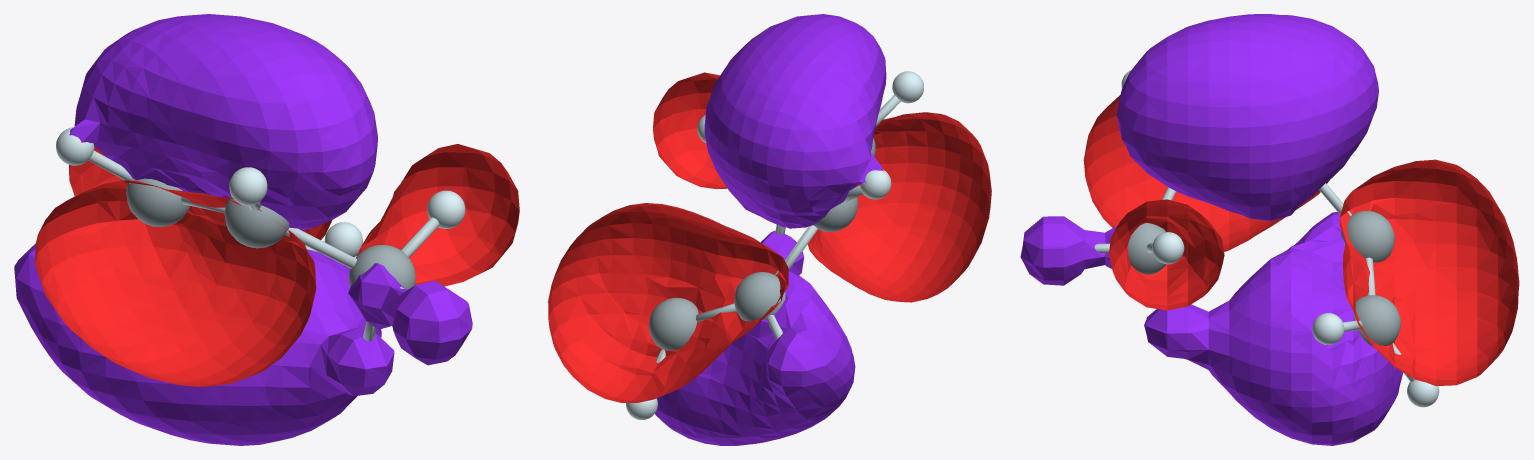
3 renders of one model, left to right at view 1: azimuth 30°, elevation 25°; view 2: azimuth 150°, elevation 25°; view 3: azimuth 270°, elevation 25°, orthographic. The views are drawn at different scales.
Visible parts, largest first — view 1: Renderer Node; view 2: Renderer Node; view 3: Renderer Node.
Part boxes in pixels (x1,y1,x2,y2): Renderer Node: (14, 14, 519, 445); Renderer Node: (548, 14, 991, 445); Renderer Node: (1020, 14, 1519, 445).
Bounding box in the file's own units: 4.95 × 5.25 × 6.18.
